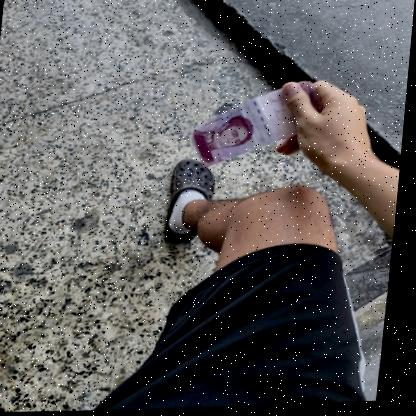one_hundred-front-vef: (190, 80, 327, 172)
